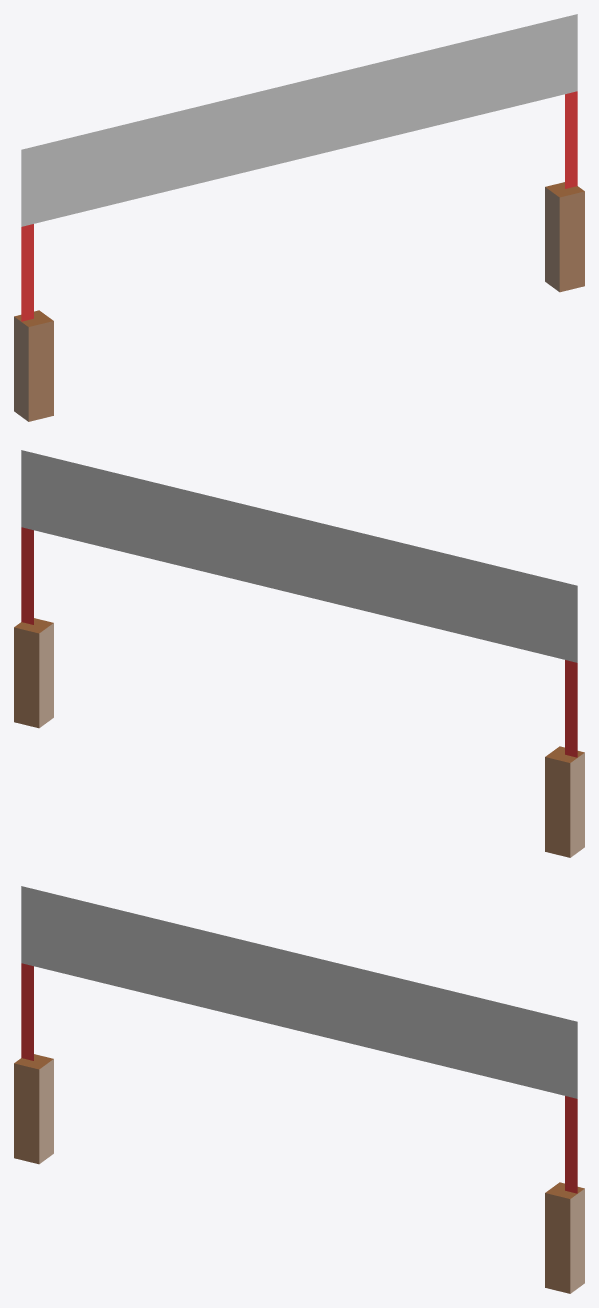
File: fini.obj
The picture shows the model from 3 angles, top to bottom: view 1: azimuth 30°, elevation 25°; view 2: azimuth 150°, elevation 25°; view 3: azimuth 330°, elevation 25°; orthographic projection.
Size of the model in its own units: 264 by 121 by 12.
